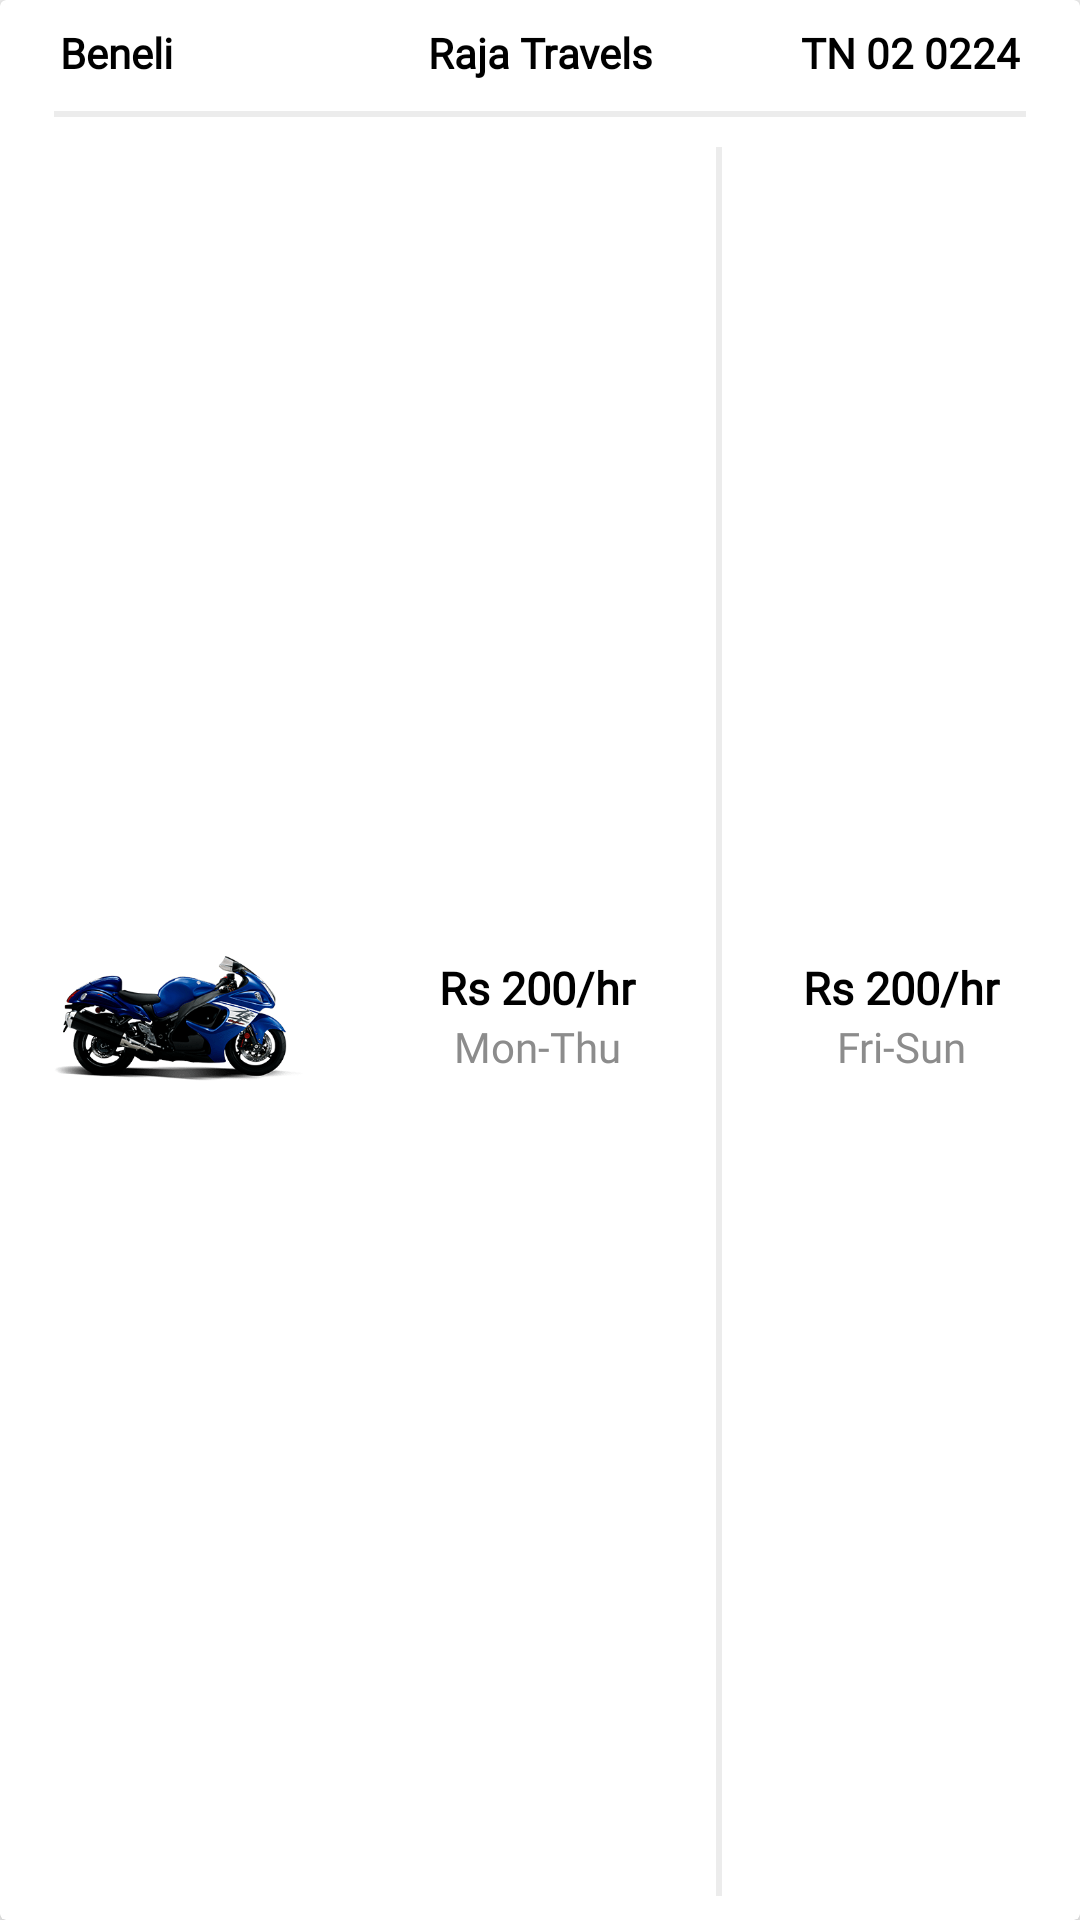

Point at icon controls on the screen. Image size 1080x1920, points as (x=x, y=y).
bike: (x=172, y=1018)
